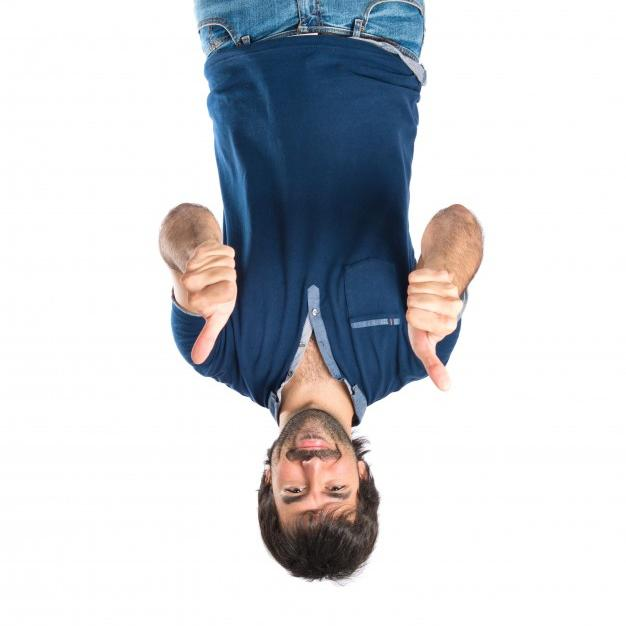thumbsdown: (405, 268, 462, 392), (181, 241, 236, 365)
